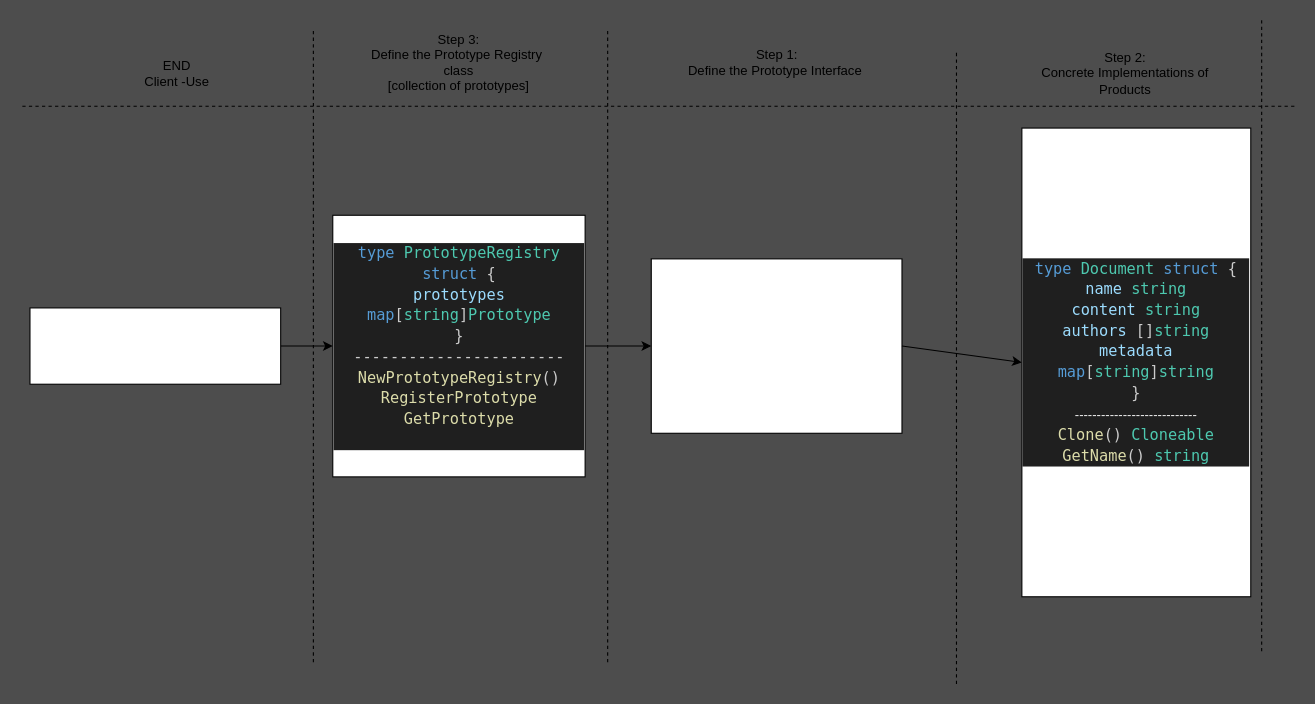
The diagram is 1315 pixels wide and 704 high, and some of its shapes have lost their labels. Here are the shapes that lost their labels. From the top down, the box of each, then its label:
(29, 307, 281, 384): Client
(650, 258, 902, 433): type Cloneable interface { Clone () Cloneable GetName () string }
